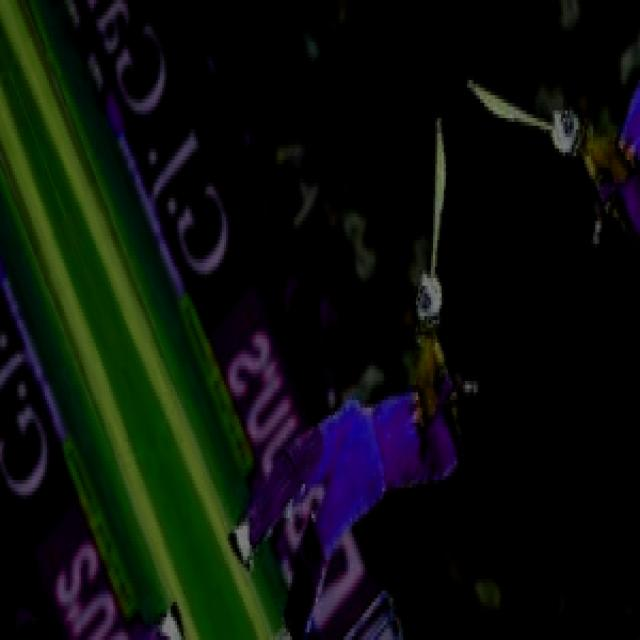toe: (432, 100, 449, 177)
